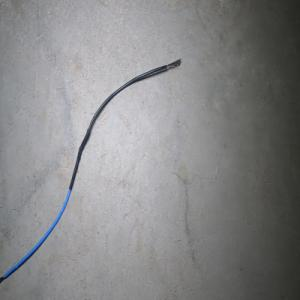Wire: (0, 58, 181, 284)
